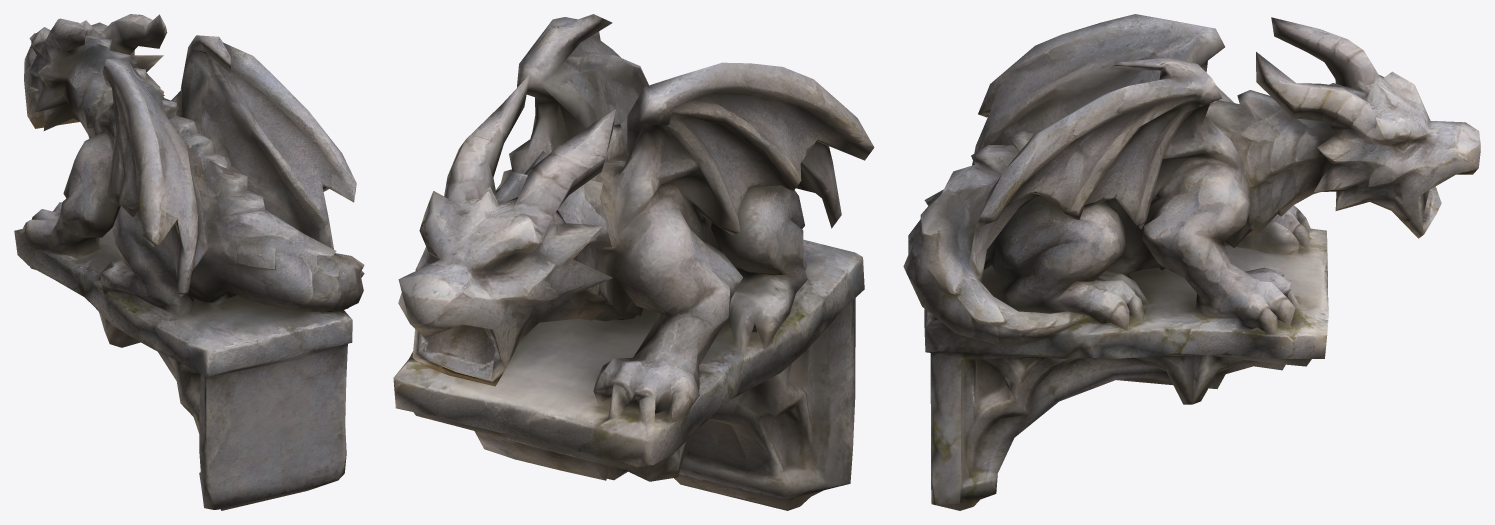
Rendered from castle_gargoyle_source.glb.
The picture shows the model from 3 angles, left to right: view 1: azimuth 30°, elevation 25°; view 2: azimuth 150°, elevation 25°; view 3: azimuth 270°, elevation 25°; orthographic projection. The views are drawn at different scales.
Visible parts, largest first — view 1: tripo_node_9e12578e-ca6a-452a-a3cf-9bc0cd8917da; view 2: tripo_node_9e12578e-ca6a-452a-a3cf-9bc0cd8917da; view 3: tripo_node_9e12578e-ca6a-452a-a3cf-9bc0cd8917da.
Boxes of the visible parts, x1,y1,x2,y2 form: tripo_node_9e12578e-ca6a-452a-a3cf-9bc0cd8917da: [14, 14, 364, 510]; tripo_node_9e12578e-ca6a-452a-a3cf-9bc0cd8917da: [393, 14, 874, 510]; tripo_node_9e12578e-ca6a-452a-a3cf-9bc0cd8917da: [903, 14, 1480, 510].
Size of the model in its own units: 0.4899 by 0.8409 by 0.9807.
Materials: 1 (1 with a texture image).
